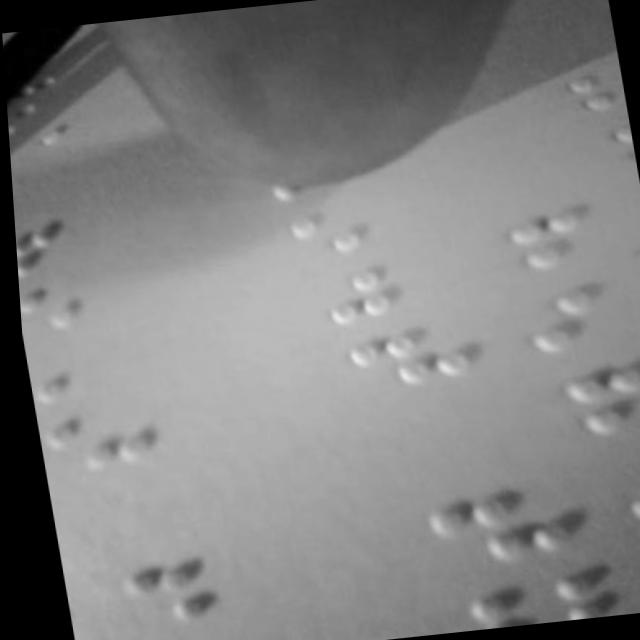braiile: (406, 477, 568, 570), (441, 558, 605, 632), (506, 267, 640, 350), (334, 322, 472, 399), (30, 402, 162, 478), (275, 192, 410, 266), (307, 256, 439, 331), (544, 351, 640, 433), (20, 339, 124, 405), (11, 212, 108, 278), (14, 273, 118, 333), (108, 619, 239, 640)
